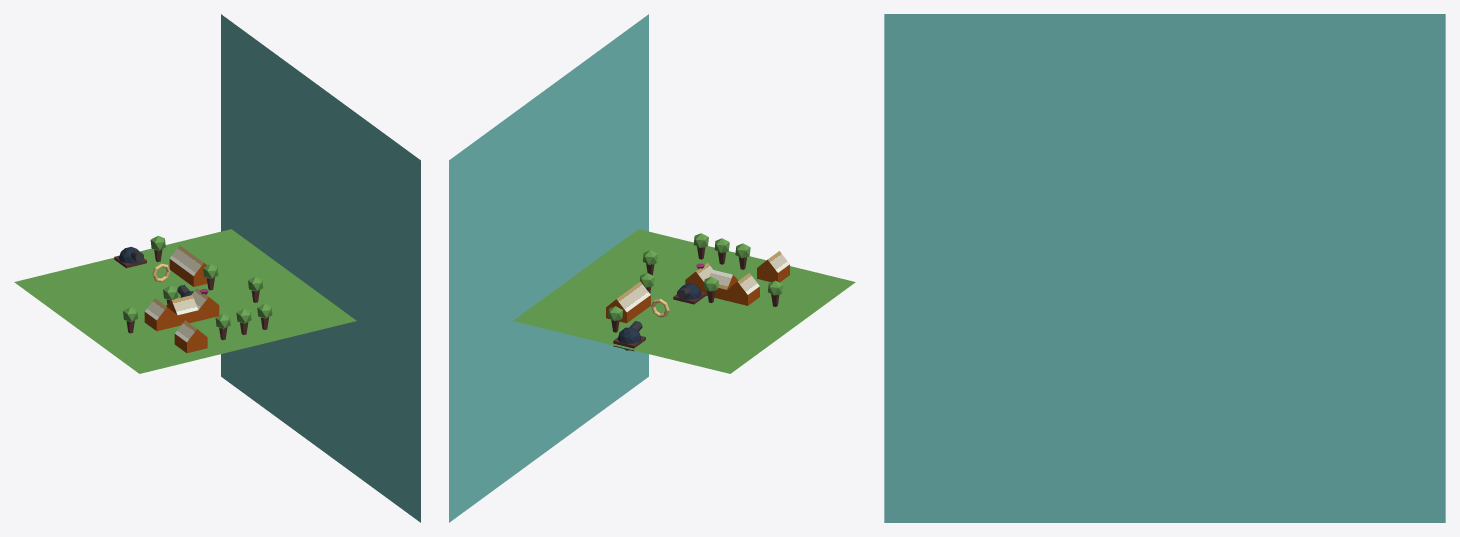
The model's file is title.gltf.
3 views of the same model, side by side, from view 1: azimuth 30°, elevation 25°; view 2: azimuth 150°, elevation 25°; view 3: azimuth 270°, elevation 25° (orthographic). The views are drawn at different scales.
Visible parts, largest first — view 1: Plane.001, Plane, Cube.006, Cube.002, Cube.001, Cube.003, Cube, canon; view 2: Plane.001, Plane, Cube.002, Cube.006, Cube.005, canon, Cube.001; view 3: Plane.001.
Boxes of the visible parts, <box> form: Plane.001: <box>221,14,420,522</box>; Plane: <box>14,229,356,373</box>; Cube.006: <box>174,320,207,353</box>; Cube.002: <box>144,298,177,331</box>; Cube.001: <box>166,295,198,325</box>; Cube.003: <box>181,254,207,286</box>; Cube: <box>191,288,219,320</box>; canon: <box>114,246,146,268</box>; Plane.001: <box>449,14,648,522</box>; Plane: <box>513,229,855,373</box>; Cube.002: <box>727,273,759,305</box>; Cube.006: <box>757,251,789,282</box>; Cube.005: <box>606,290,638,323</box>; canon: <box>613,321,645,351</box>; Cube.001: <box>706,269,738,300</box>; Plane.001: <box>884,14,1445,522</box>.
Size of the model in its own units: 23.44 by 33.26 by 33.26.
Materials: 1 (1 with a texture image).
